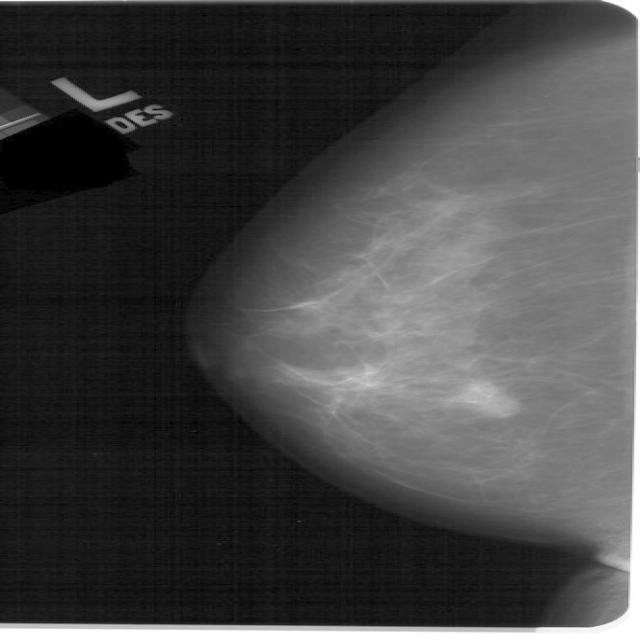tumour: (451, 380, 517, 417)
